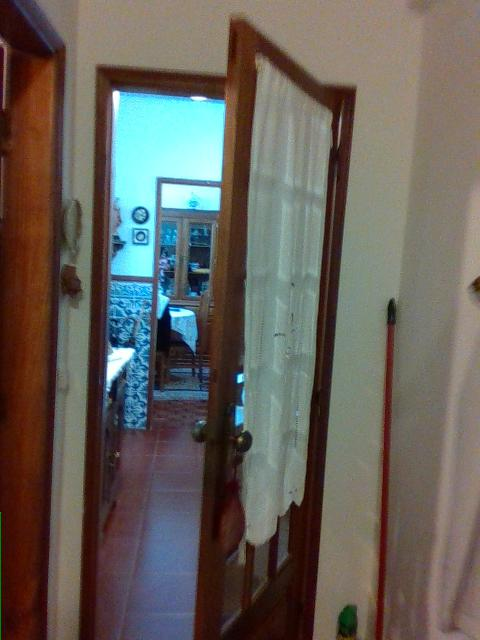semi_door: (78, 9, 358, 639)
